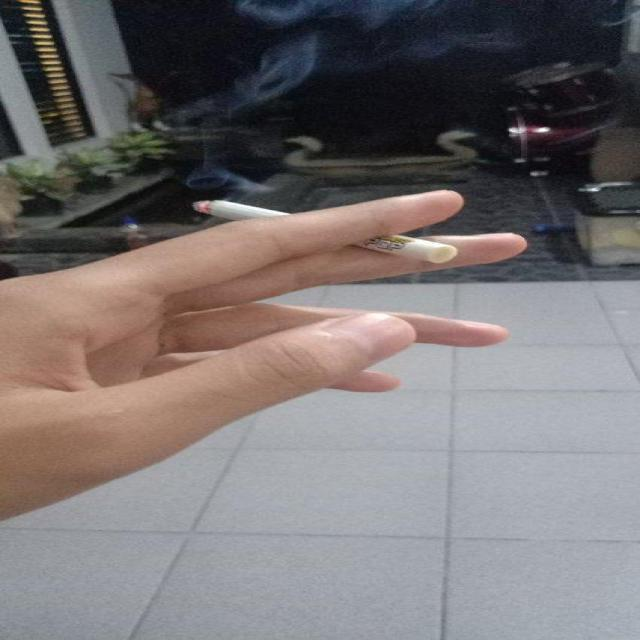rokok: (182, 190, 470, 266)
